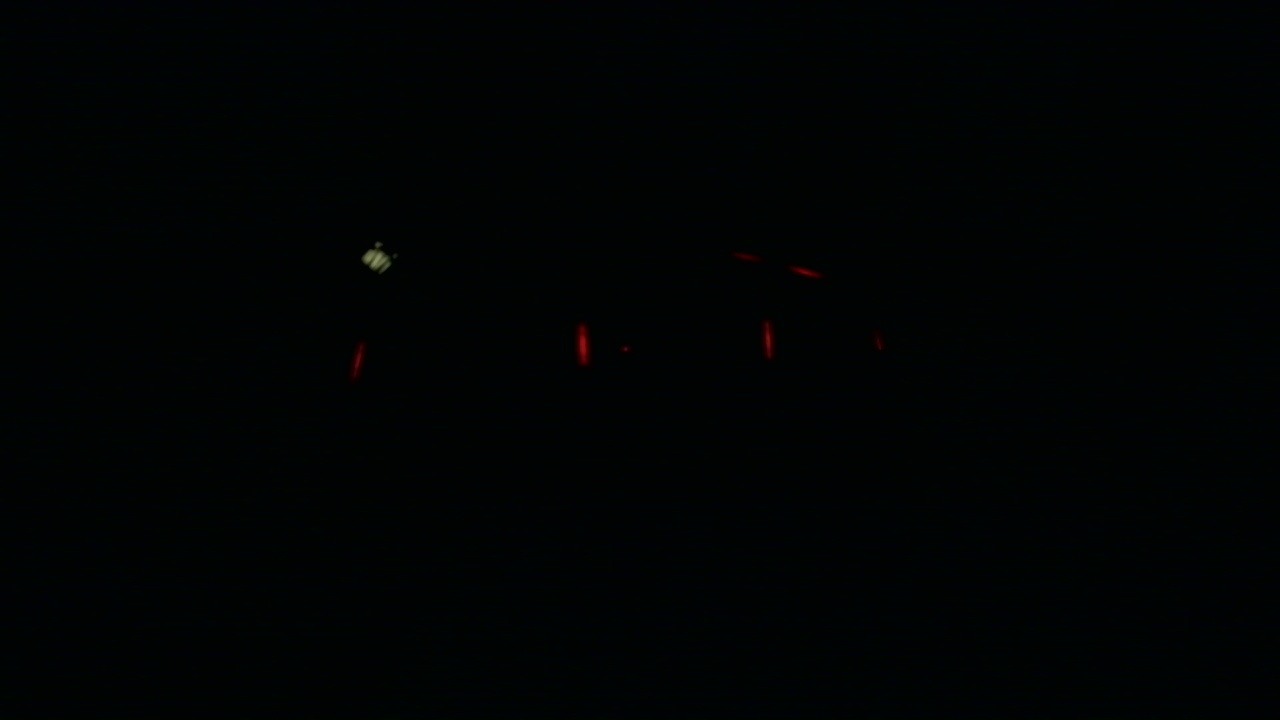lamp: (347, 326, 366, 371), (576, 326, 589, 358), (762, 325, 772, 360)
notpair2: (340, 328, 590, 374)
pair2: (575, 324, 774, 362)
